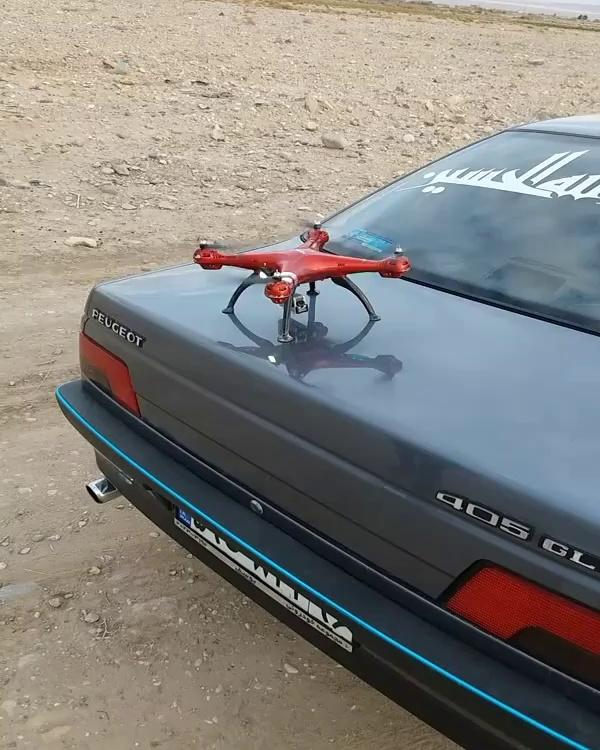drone: (186, 213, 421, 350)
